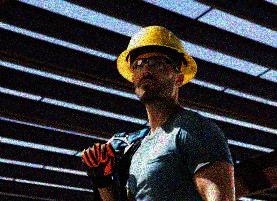helmet: (116, 25, 199, 100)
